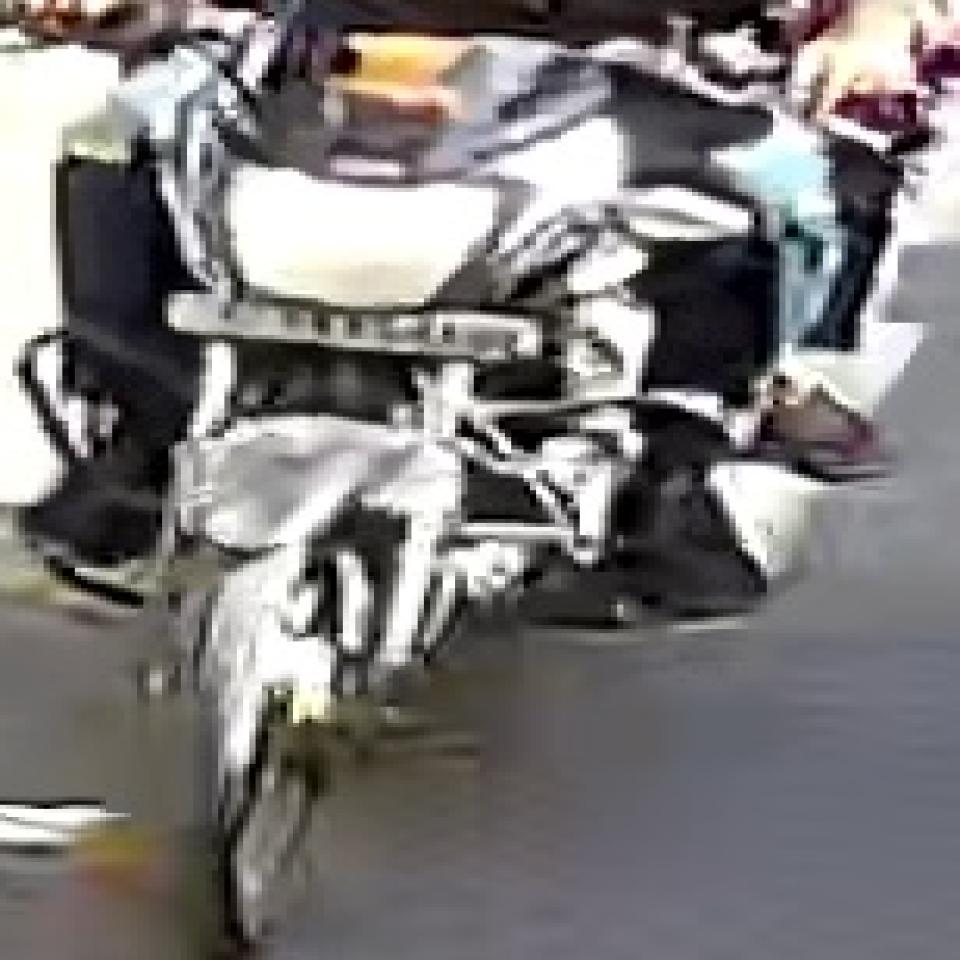head_light: (218, 159, 502, 309)
